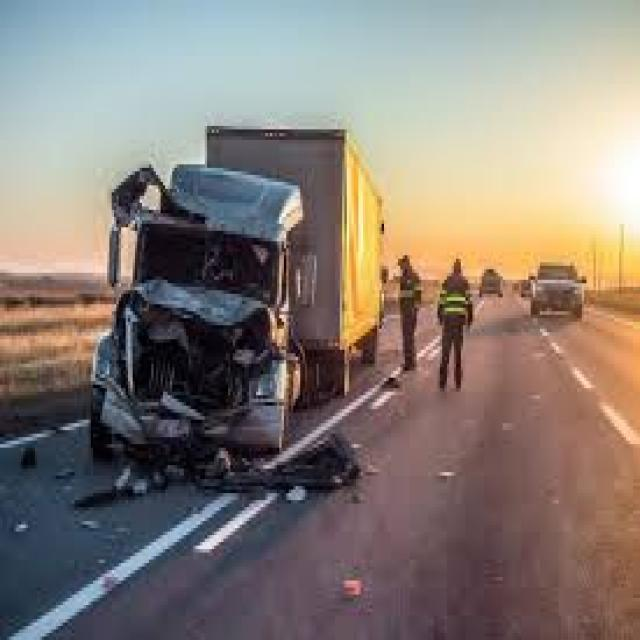car-serious-accident: (47, 96, 422, 536)
